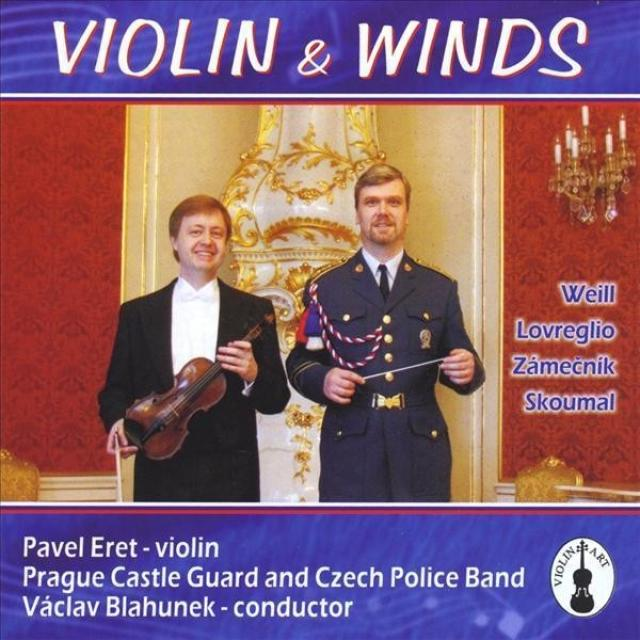violin: (122, 311, 280, 461)
